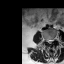CCS_normal: (49, 36, 50, 45)
LFS_normal: (52, 36, 55, 43)
LLS_normal: (50, 36, 52, 44)
RFS_normal: (45, 36, 47, 44)
RLS_normal: (47, 37, 49, 44)
